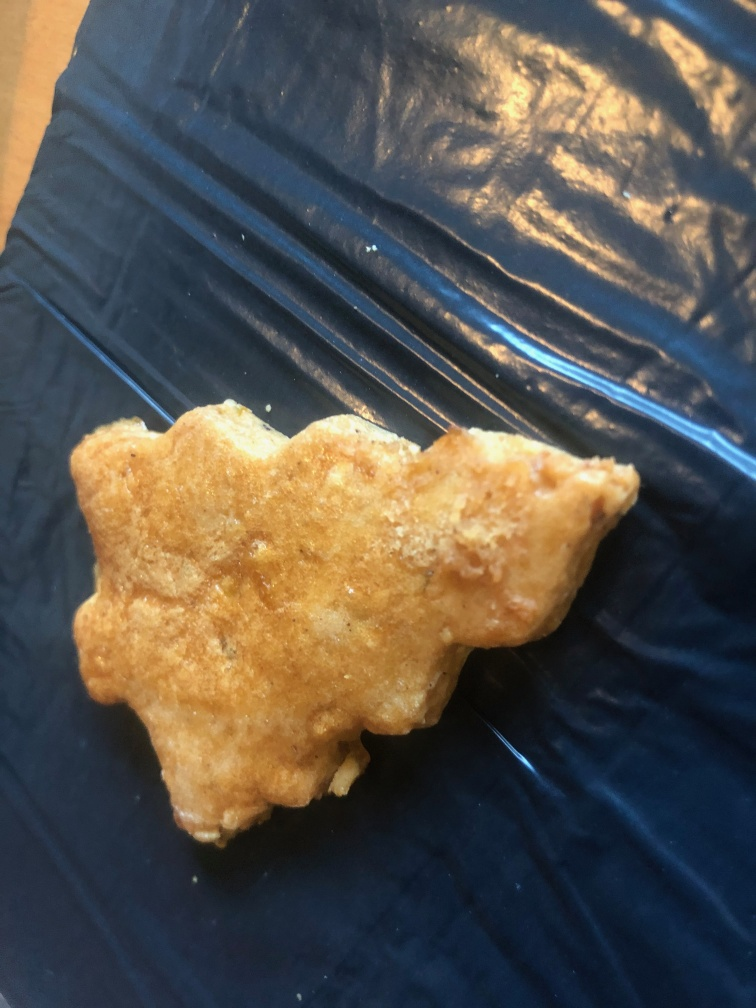christmas tree: (55, 384, 646, 853)
